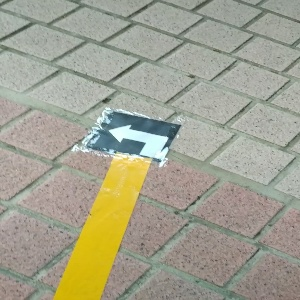left: (88, 112, 181, 161)
